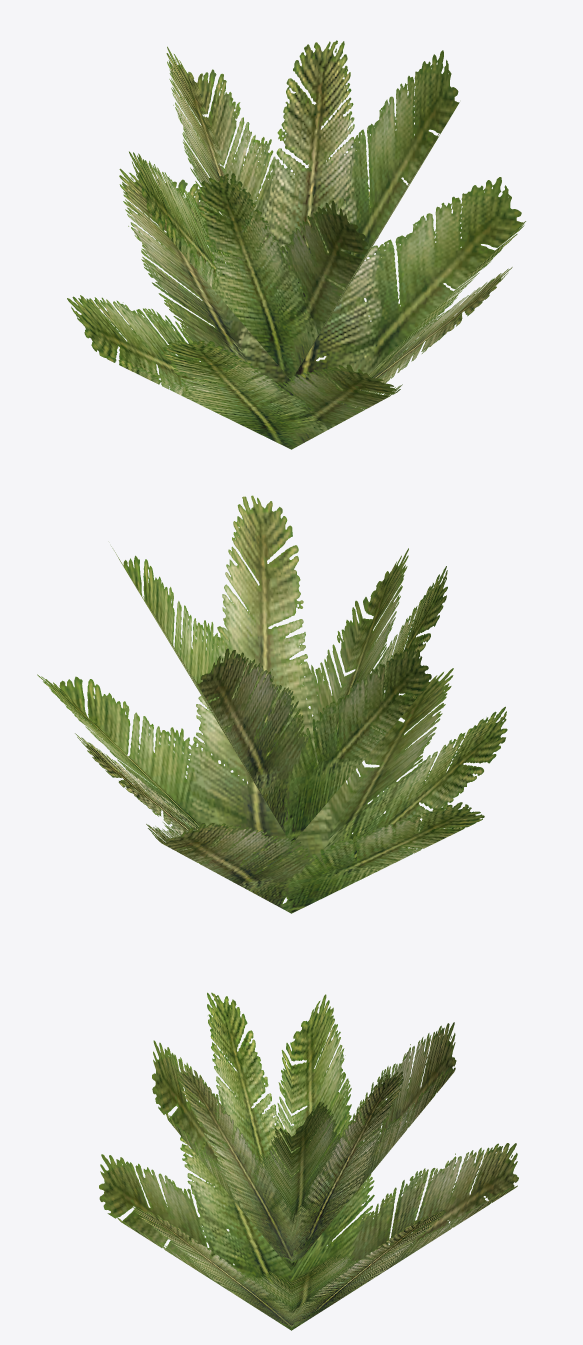
Rendered from bush_tropic_b_0.glb.
3 views of the same model, one above another, from view 1: azimuth 30°, elevation 25°; view 2: azimuth 150°, elevation 25°; view 3: azimuth 270°, elevation 25° (orthographic). The views are drawn at different scales.
Visible parts, largest first — view 1: bush_tropic_b_0; view 2: bush_tropic_b_0; view 3: bush_tropic_b_0.
Boxes of the visible parts, x1=… form: bush_tropic_b_0: x1=67, y1=40, x2=525, y2=449; bush_tropic_b_0: x1=37, y1=495, x2=507, y2=913; bush_tropic_b_0: x1=99, y1=992, x2=518, y2=1330.
Size of the model in its own units: 2.7 by 1.63 by 2.7.
Materials: 1 (1 with a texture image).
